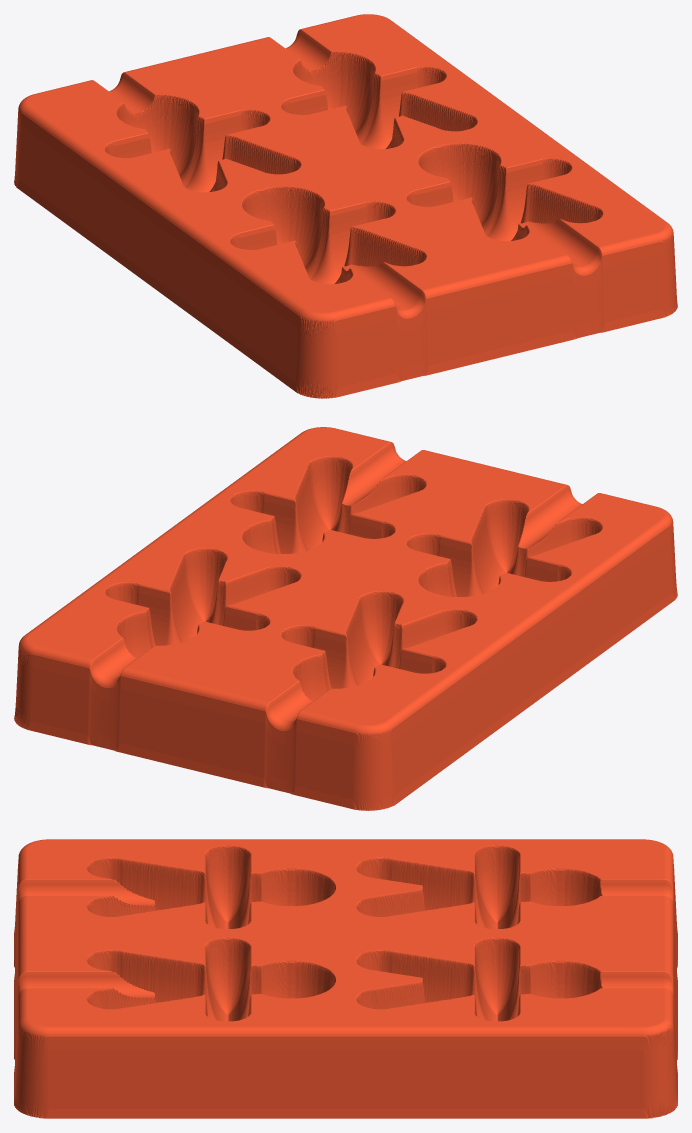
File: mold.glb
3 renders of one model, top to bottom at view 1: azimuth 30°, elevation 25°; view 2: azimuth 150°, elevation 25°; view 3: azimuth 270°, elevation 25°, orthographic. The views are drawn at different scales.
Parts seen in each view (by area): view 1: geometry_0; view 2: geometry_0; view 3: geometry_0.
Part boxes in pixels (<box>): geometry_0: <box>14,14,677,398</box>; geometry_0: <box>14,427,677,810</box>; geometry_0: <box>14,839,677,1118</box>.
Size of the model in its own units: 0.1207 by 0.0245 by 0.171.
